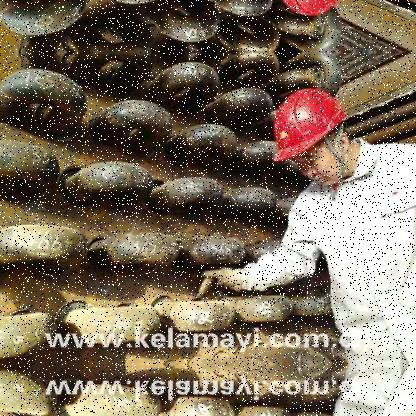Helmet: (265, 82, 360, 191), (275, 0, 350, 25)
